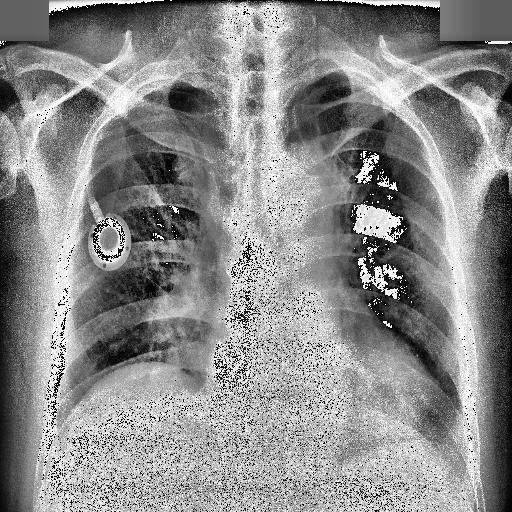0- Aortic enlargement: (252, 147, 338, 264), (261, 154, 335, 262), (272, 146, 336, 240)
11- Pleural thickening: (136, 66, 208, 98)
3- Cardiomegaly: (206, 322, 452, 444), (208, 324, 442, 424), (202, 349, 443, 434)
6- Infiltration: (138, 255, 230, 367)
